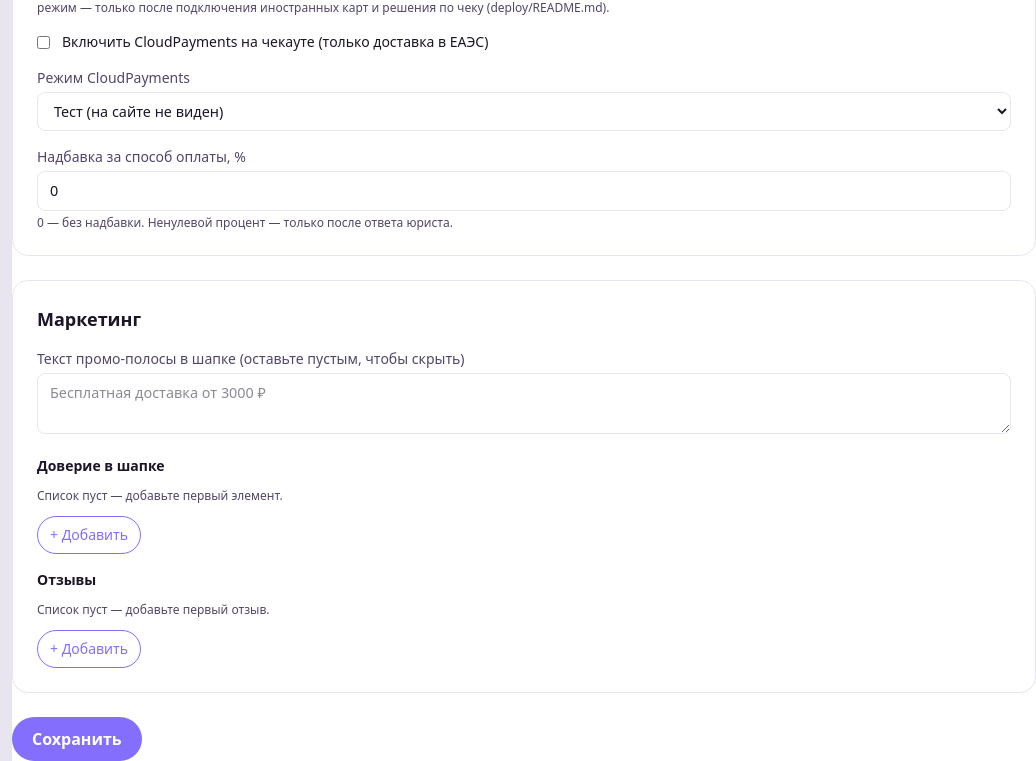
it: SettingsForm › renders a server error message when the API fails
(page scrolled)
Click the button "Сохранить": (77, 739) x1=12 y1=717 x2=142 y2=760
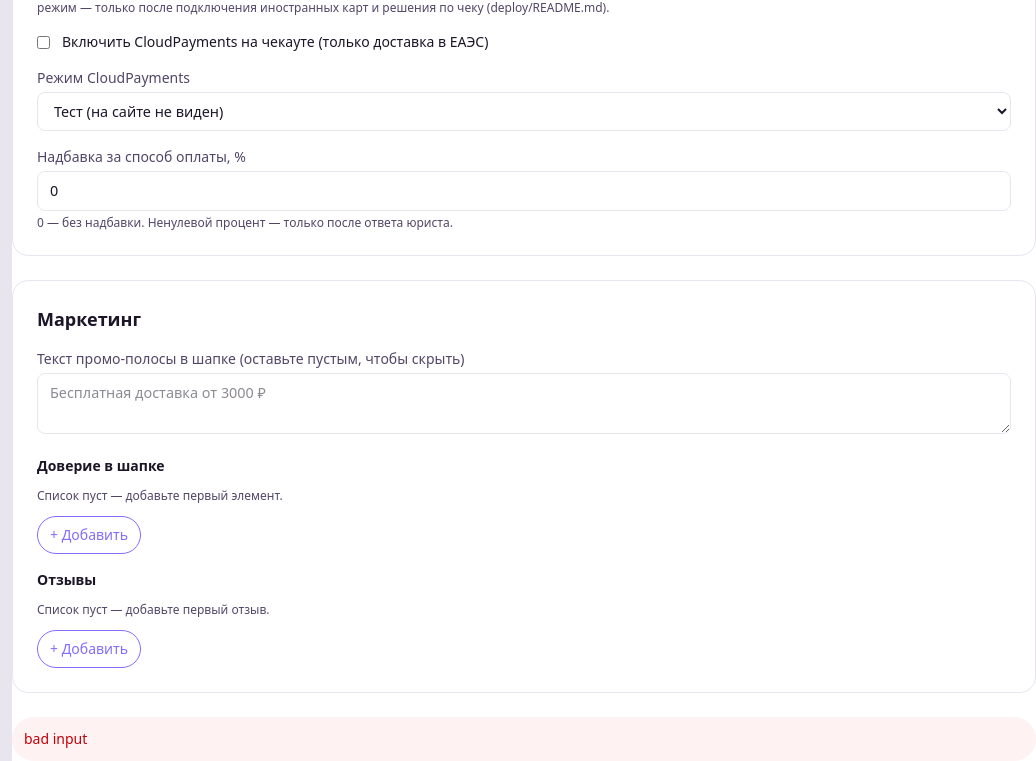
Now the message reads "bad input", box x1=24 y1=729 x2=87 y2=748
